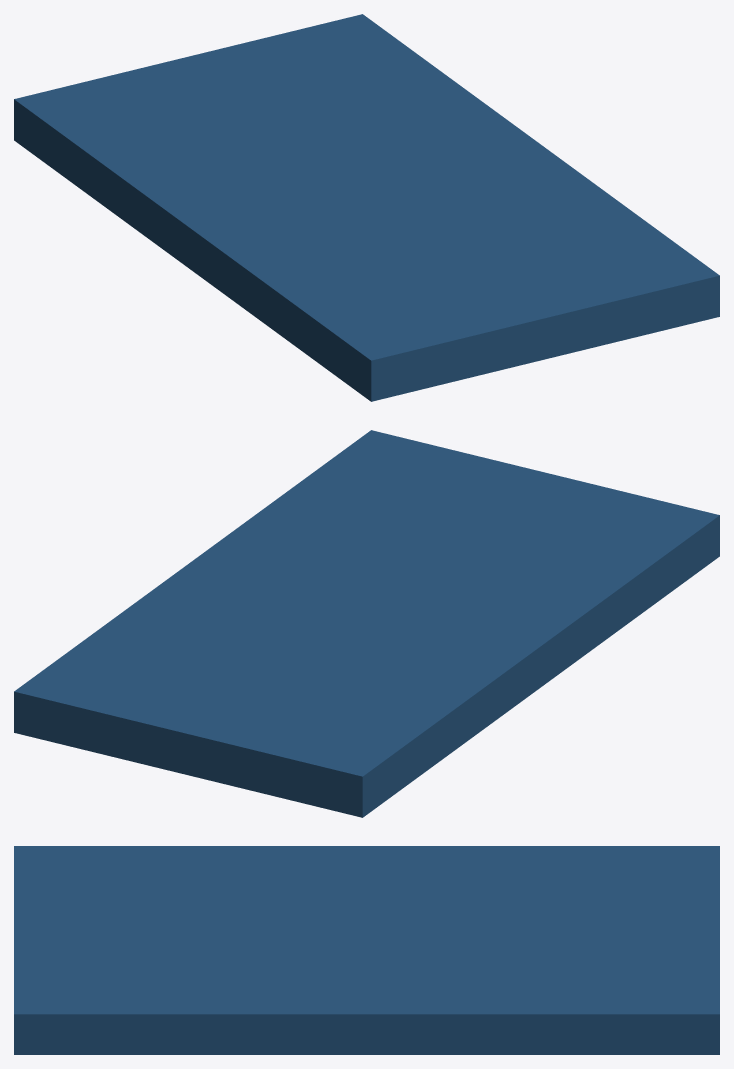
The model's file is pod4_battery.obj.
3 views of the same model, one above another, from view 1: azimuth 30°, elevation 25°; view 2: azimuth 150°, elevation 25°; view 3: azimuth 270°, elevation 25° (orthographic).
Parts seen in each view (by area): view 1: pod4_battery; view 2: pod4_battery; view 3: pod4_battery.
Part boxes in pixels (bbox=[...]): pod4_battery: bbox=[14, 14, 719, 401]; pod4_battery: bbox=[14, 430, 719, 817]; pod4_battery: bbox=[14, 846, 719, 1054].
Size of the model in its own units: 0.62 by 0.075 by 1.1.
